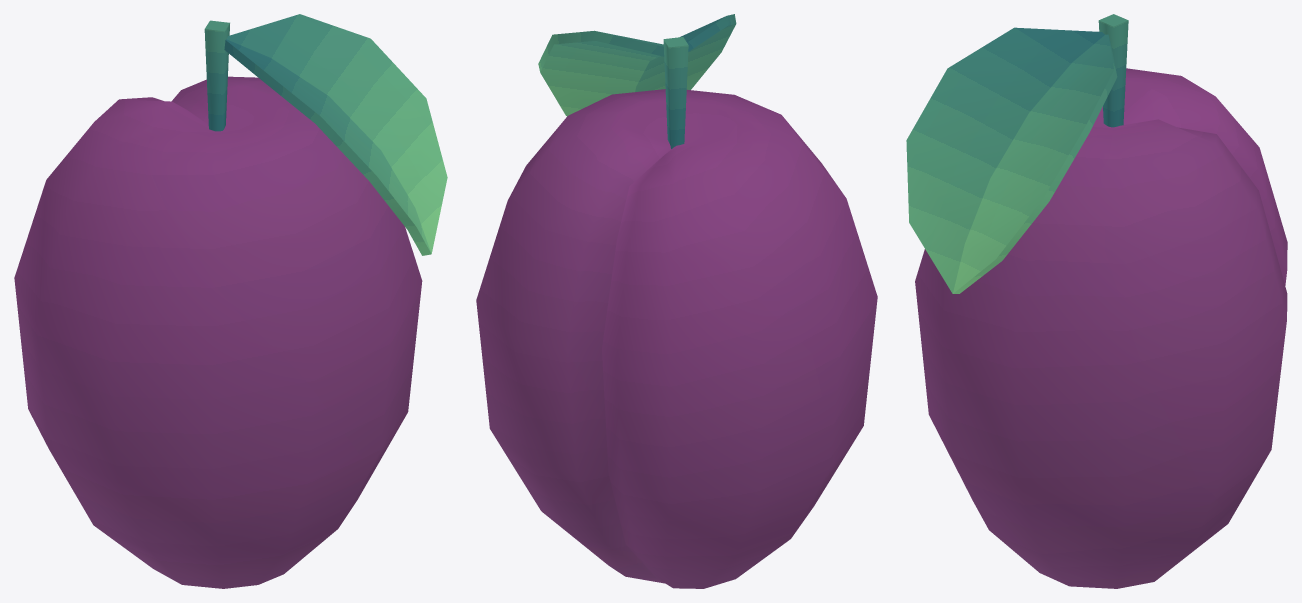
The model's file is purple_fruit.glb.
3 renders of one model, left to right at view 1: azimuth 30°, elevation 25°; view 2: azimuth 150°, elevation 25°; view 3: azimuth 270°, elevation 25°, orthographic. The views are drawn at different scales.
Parts seen in each view (by area): view 1: mesh_plum_01 - Default.001_0; view 2: mesh_plum_01 - Default.001_0; view 3: mesh_plum_01 - Default.001_0.
Part boxes in pixels (left/top/right/bottom): mesh_plum_01 - Default.001_0: left=14, top=14, right=447, bottom=588; mesh_plum_01 - Default.001_0: left=476, top=14, right=877, bottom=588; mesh_plum_01 - Default.001_0: left=906, top=14, right=1287, bottom=588.
Bounding box in the file's own units: 97.77 × 148 × 90.74.
1 material, 1 textured.
